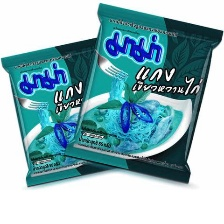snack: (58, 0, 224, 190), (0, 30, 137, 192)
